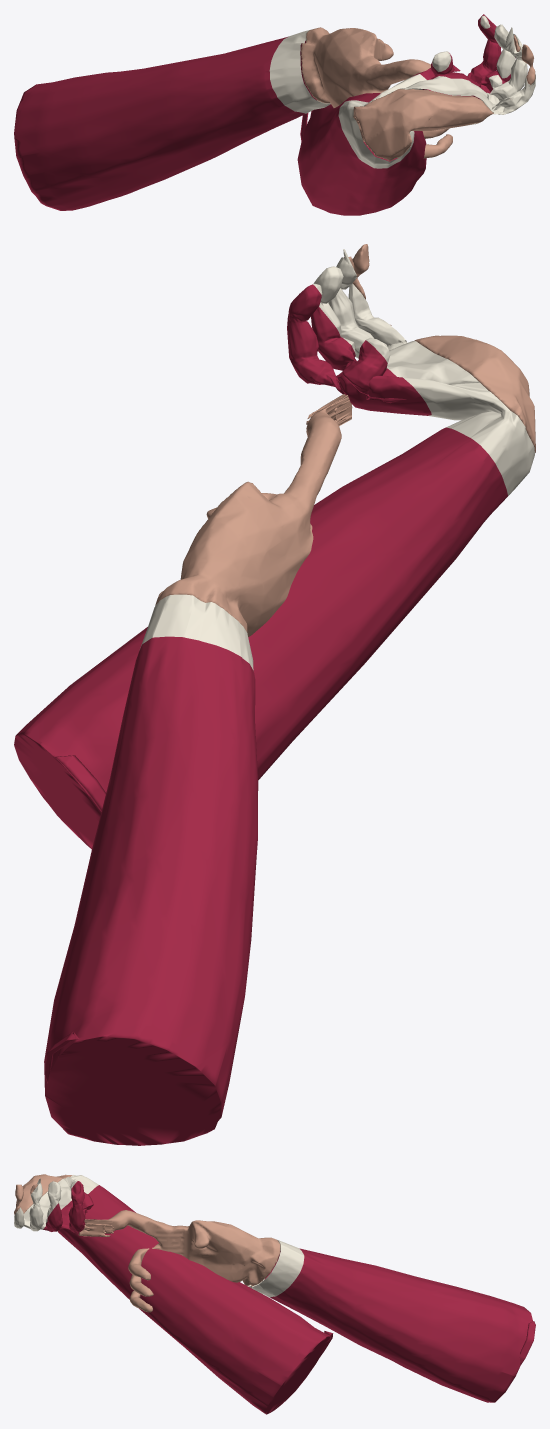
The model's file is fps_hands_uzi.glb.
The picture shows the model from 3 angles, top to bottom: view 1: azimuth 30°, elevation 25°; view 2: azimuth 150°, elevation 25°; view 3: azimuth 270°, elevation 25°; orthographic projection. The views are drawn at different scales.
Parts seen in each view (by area): view 1: Right, Left; view 2: Right, Left; view 3: Right, Left.
Part boxes in pixels (x1,y1,x2,y2): Right: (14,27,452,210); Left: (297,14,535,215); Right: (44,394,352,1145); Left: (14,244,535,849); Right: (78,1210,535,1402); Left: (14,1174,333,1414).
Bounding box in the file's own units: 0.2484 × 0.316 × 0.5492.
